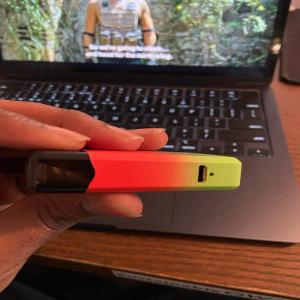Swift-E-Ciggirate: (1, 144, 246, 193)
